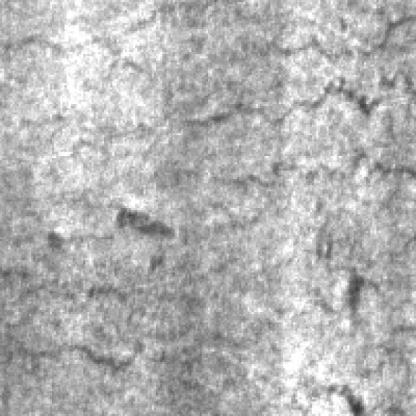crazing: (100, 4, 414, 146), (2, 195, 179, 387)
